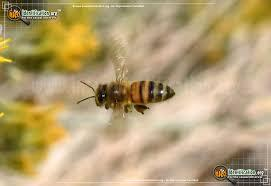Apis-mellifera-scutellata: (73, 66, 178, 130)
